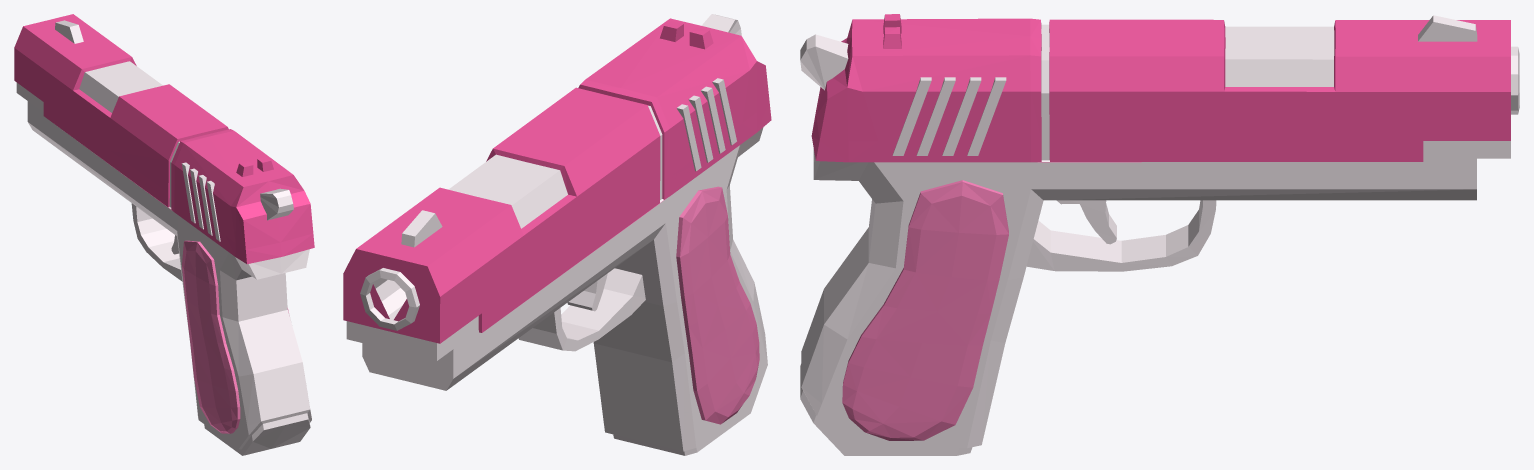
The model's file is Pistol_2.obj.
The picture shows the model from 3 angles, left to right: view 1: azimuth 30°, elevation 25°; view 2: azimuth 150°, elevation 25°; view 3: azimuth 270°, elevation 25°; orthographic projection. The views are drawn at different scales.
Visible parts, largest first — view 1: Accent, Body, Grip; view 2: Accent, Body, Grip; view 3: Accent, Body, Grip.
Boxes of the visible parts, <box> form: Accent: <box>14,14,314,264</box>; Body: <box>16,20,311,455</box>; Grip: <box>182,240,289,433</box>; Accent: <box>343,18,771,343</box>; Body: <box>346,14,767,455</box>; Grip: <box>676,186,759,424</box>; Accent: <box>811,14,1510,162</box>; Body: <box>800,15,1519,455</box>; Grip: <box>842,180,1008,440</box>.
Bounding box in the file's own units: 0.5685 × 2.04 × 3.2.
